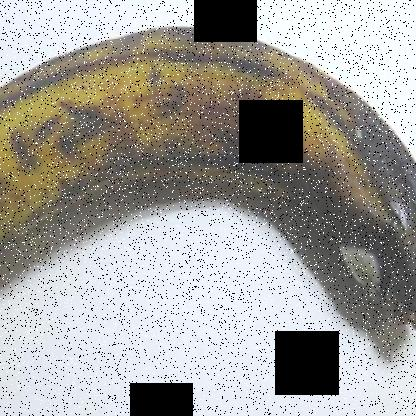overripe: (1, 8, 415, 350)
rotten: (285, 94, 415, 308)
